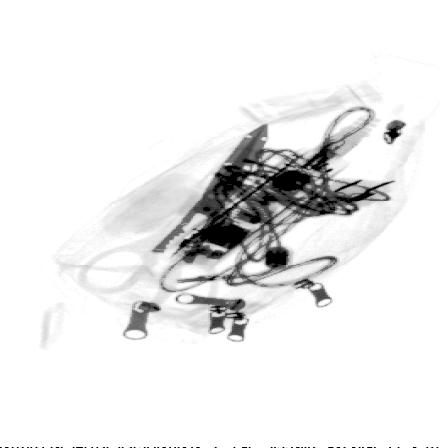Scissors: (74, 123, 269, 321)
